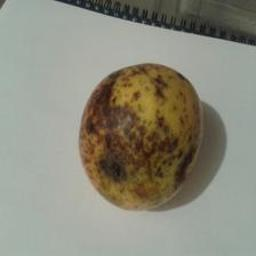Mango Rotten: (78, 50, 202, 211)
